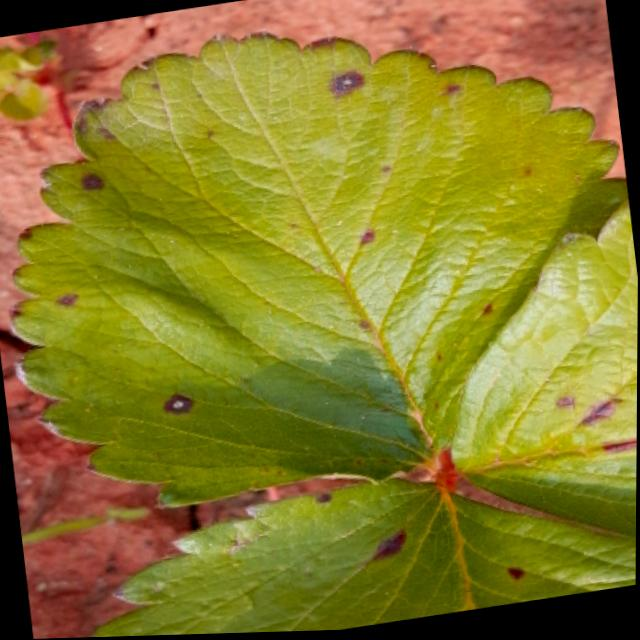Leaf Spot: (7, 31, 628, 510), (89, 477, 637, 638), (447, 200, 638, 539)
